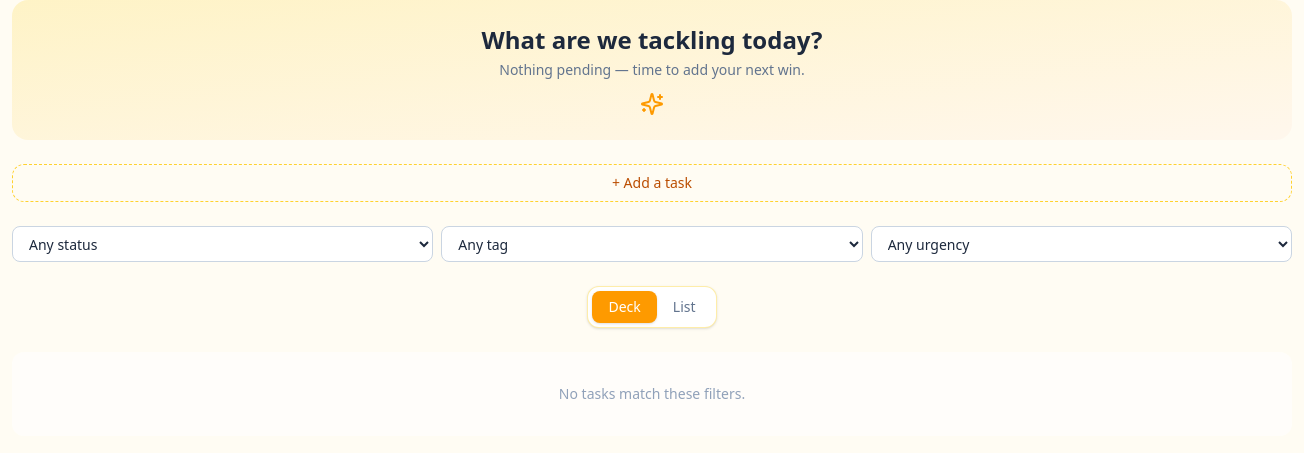
Test: DashboardPage › shows the empty state in list mode when there are no tasks
Click the button "list" at (684, 307), box x1=657 y1=291 x2=712 y2=323
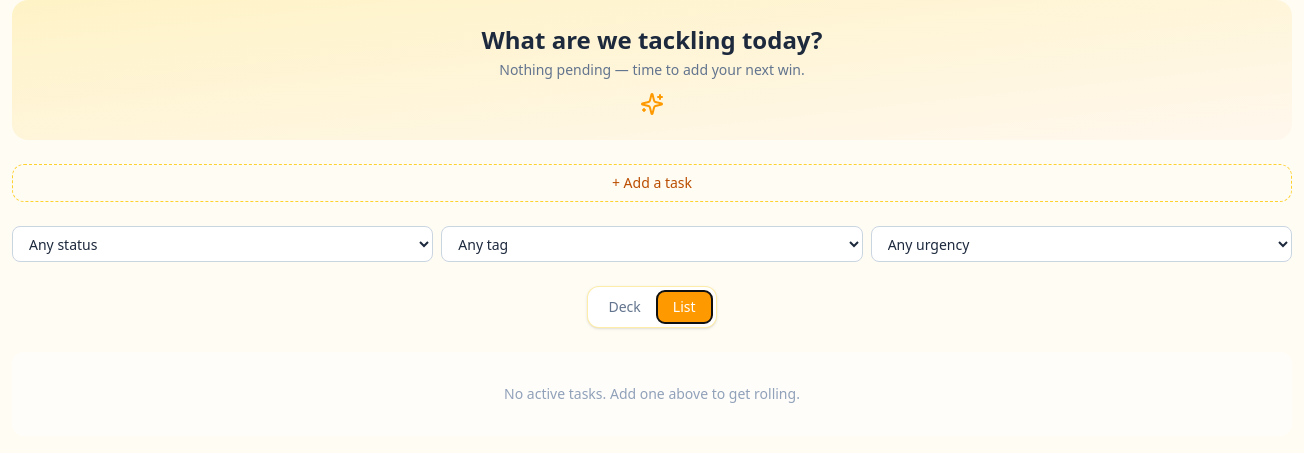
Result: the text "No active tasks. Add one above to get rolling." is shown at x1=12 y1=352 x2=1292 y2=436
